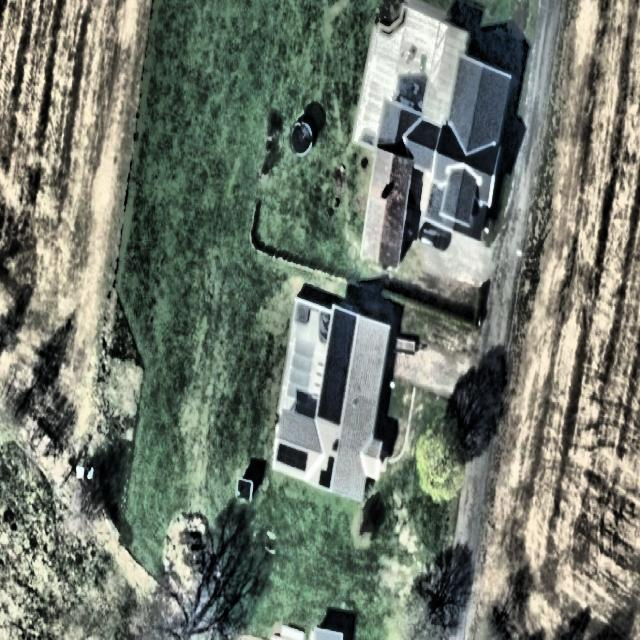roof_pv: (318, 382, 347, 428), (327, 304, 359, 344), (321, 345, 354, 379), (276, 444, 308, 476), (319, 452, 336, 494)
